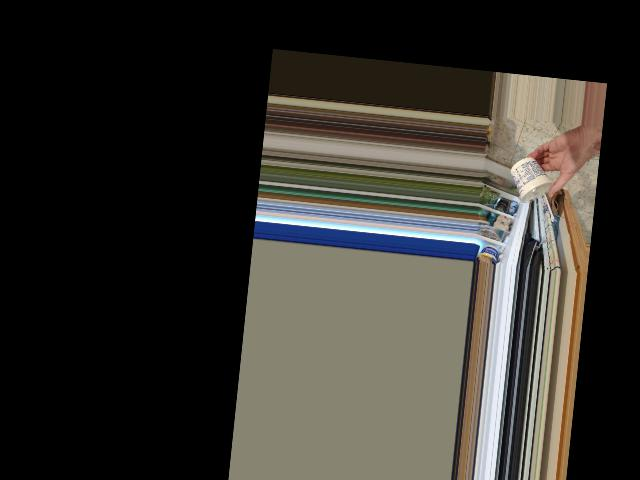cotage: (508, 161, 556, 208)
